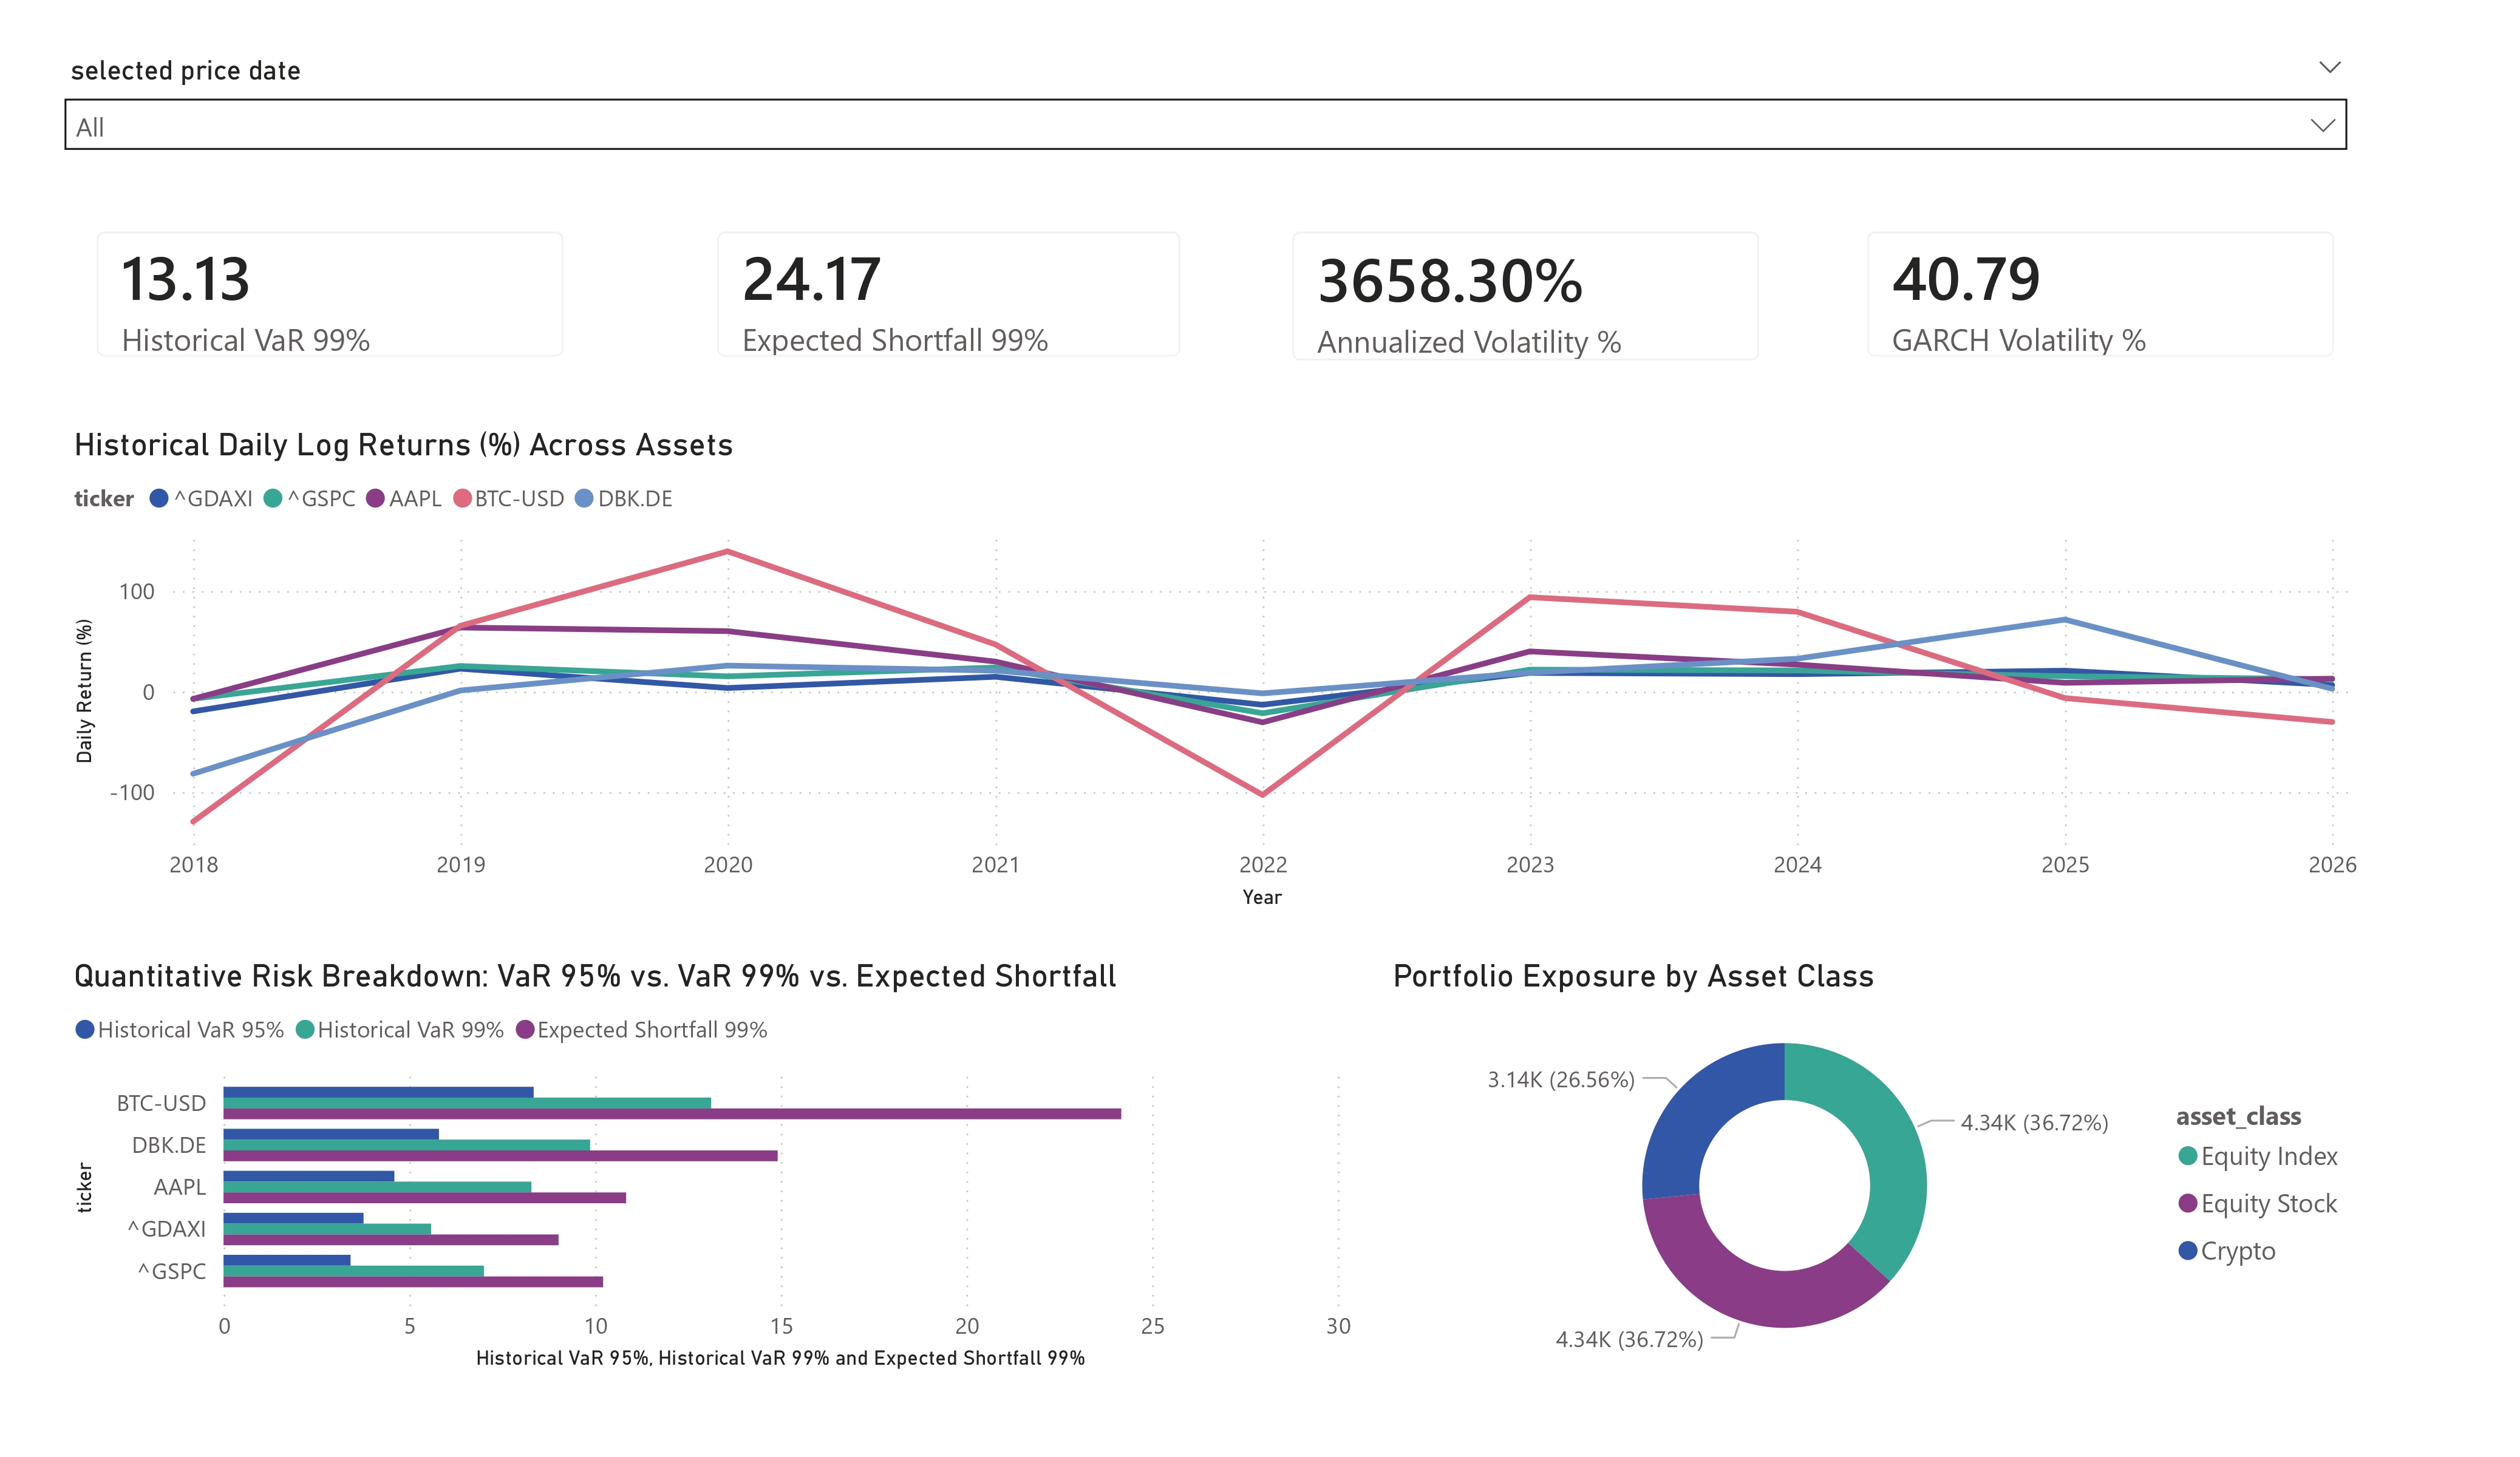

This screenshot's page, from the dashboard's own definition file:
{"tool":"powerbi","page":{"name":"1. Portfolio Risk Overview","canvas":[1280,720],"ordinal":0},"visuals":[{"type":"cardVisual","title":"1-Day Historical VaR (99%)","fields":{"Data":["_Key Risk Measures.Historical VaR 99%"]},"box":[10,61.7,280,120],"z":0},{"type":"cardVisual","title":"1-Day Expected Shortfall (99%)","fields":{"Data":["_Key Risk Measures.Expected Shortfall 99%"]},"box":[336.7,61.7,278.3,120],"z":1000},{"type":"cardVisual","title":"Annualized Volatility","fields":{"Data":["_Key Risk Measures.Annualized Volatility %"]},"box":[640,61.7,280,121.7],"z":2000},{"type":"cardVisual","title":"1-Day Dynamic GARCH Volatility","fields":{"Data":["_Key Risk Measures.GARCH Volatility %"]},"box":[943.3,61.7,280,120],"z":3000},{"type":"lineChart","title":"Historical Daily Log Returns (%) Across Assets","fields":{"Category":["vw_daily_market_overview.price_date.Variation.Date Hierarchy.Year","vw_daily_market_overview.price_date.Variation.Date Hierarchy.Quarter","vw_daily_market_overview.price_date.Variation.Date Hierarchy.Month","vw_daily_market_overview.price_date.Variation.Date Hierarchy.Day"],"Y":["Sum(vw_daily_market_overview.return_pct)"],"Series":["vw_daily_market_overview.ticker"]},"box":[10,200,1213.3,260],"z":4000},{"type":"clusteredBarChart","title":"Quantitative Risk Breakdown: VaR 95% vs. VaR 99% vs. Expected Shortfall","fields":{"Category":["vw_portfolio_risk_summary.ticker"],"Y":["_Key Risk Measures.Historical VaR 95%","_Key Risk Measures.Historical VaR 99%","_Key Risk Measures.Expected Shortfall 99%"]},"box":[10,480,683.3,223.3],"z":5000},{"type":"donutChart","title":"Portfolio Exposure by Asset Class","fields":{"Category":["vw_daily_market_overview.asset_class"],"Y":["CountNonNull(vw_daily_market_overview.ticker)"]},"box":[705,480,518.3,223.3],"z":6000},{"type":"slicer","fields":{"Values":["vw_daily_market_overview.price_date"]},"box":[0,0,1223.3,93.3],"z":7000}]}

Visuals, with their boxes on the page's 1280x720 design canvas (x1, y1, x2, y2). These are canvas units, not pixel positions in the 2520x1457 screenshot, which may show the page scaled, cropped or inside an application window:
"1-Day Historical VaR (99%)" cardVisual: BBox(10, 62, 290, 182)
"1-Day Expected Shortfall (99%)" cardVisual: BBox(337, 62, 615, 182)
"Annualized Volatility" cardVisual: BBox(640, 62, 920, 183)
"1-Day Dynamic GARCH Volatility" cardVisual: BBox(943, 62, 1223, 182)
"Historical Daily Log Returns (%) Across Assets" lineChart: BBox(10, 200, 1223, 460)
"Quantitative Risk Breakdown: VaR 95% vs. VaR 99% vs. Expected Shortfall" clusteredBarChart: BBox(10, 480, 693, 703)
"Portfolio Exposure by Asset Class" donutChart: BBox(705, 480, 1223, 703)
slicer - vw_daily_market_overview.price_date: BBox(0, 0, 1223, 93)
